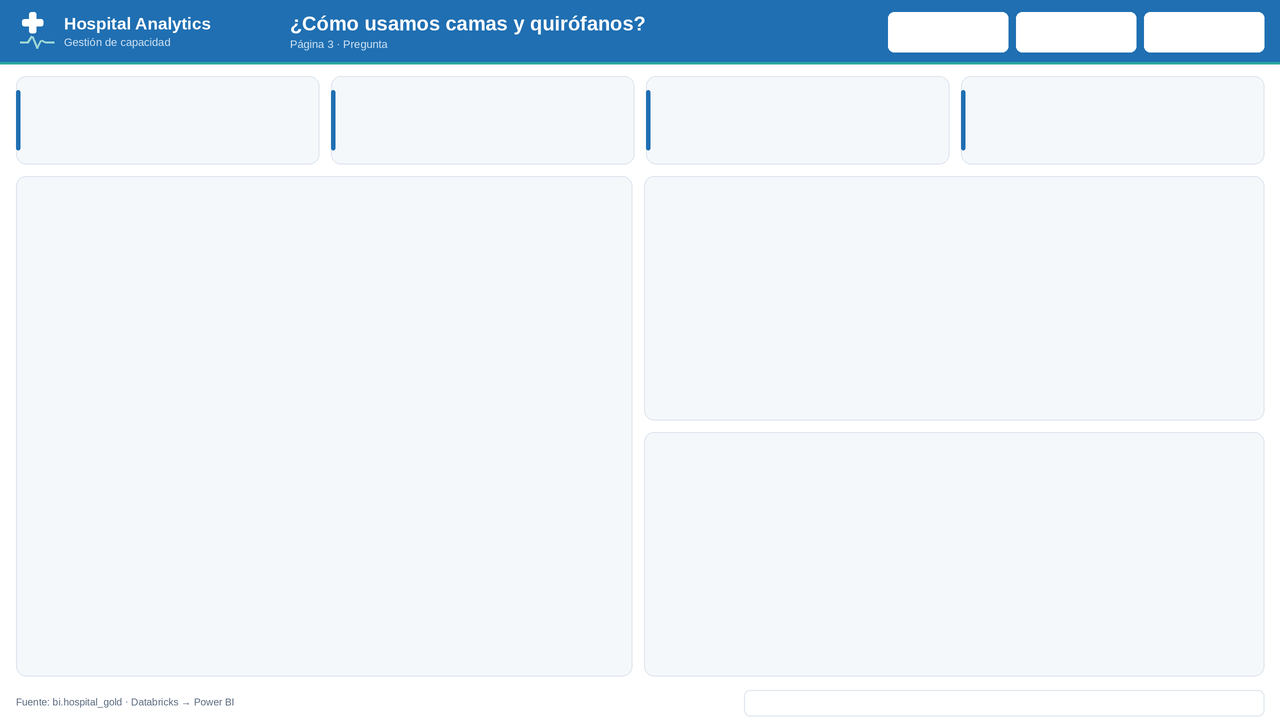

What the dashboard file says about the page in this screenshot:
{"tool":"powerbi","page":{"name":"3 Pregunta","canvas":[1920,1080],"ordinal":3},"visuals":[{"type":"slicer","fields":{"Values":["dim_date.year"]},"box":[1332,18,180,60],"z":0},{"type":"slicer","fields":{"Values":["dim_date.quarter_name"]},"box":[1524,18,180,60],"z":1000},{"type":"card","fields":{"Values":["_Medidas.Total Estancias"]},"box":[39,120,433.5,120],"z":1000},{"type":"slicer","fields":{"Values":["dim_departments.department_name"]},"box":[1716,18,180,60],"z":2000},{"type":"card","fields":{"Values":["_Medidas.Estancia Promedio (días)"]},"box":[511.5,120,433.5,120],"z":2000},{"type":"card","fields":{"Values":["_Medidas.Facturación Estancias"]},"box":[984,120,433.5,120],"z":3000},{"type":"pageNavigator","box":[1116,1035,780,39],"z":3000},{"type":"card","fields":{"Values":["_Medidas.Cirugías (tarjeta)"]},"box":[1456.5,120,433.5,120],"z":4000},{"type":"tableEx","title":"La UCI retiene más tiempo: 5,9 días promedio y casos de hasta 40 días","fields":{"Values":["dim_beds.ward_name","_Medidas.Estancias en Cama","_Medidas.Estancia Prom. Cama (días)","_Medidas.Estancia Máx. Cama (días)","_Medidas.Facturación Prom. Cama"]},"box":[24,264,924,750],"z":5000},{"type":"lineClusteredColumnComboChart","title":"Super Deluxe: la estancia más larga (5,2 días) y más costosa (78.239)","fields":{"Category":["dim_rooms.room_type"],"Y":["_Medidas.Facturación Prom. Habitación"],"Y2":["_Medidas.Estancia Prom. Habitación (días)"]},"box":[966,264,930,366],"z":6000},{"type":"clusteredBarChart","title":"Ninguna cirugía domina: las más frecuentes van de 29 a 39 casos","fields":{"Category":["fact_surgeries.surgery_type"],"Y":["_Medidas.Cirugías Top 10"]},"box":[966,648,930,366],"z":7000}]}

Visuals, with their boxes on the page's 1920x1080 design canvas (x1, y1, x2, y2). These are canvas units, not pixel positions in the 1280x720 screenshot, which may show the page scaled, cropped or inside an application window:
slicer - dim_date.year: <region>1332, 18, 1512, 78</region>
slicer - dim_date.quarter_name: <region>1524, 18, 1704, 78</region>
card - _Medidas.Total Estancias: <region>39, 120, 472, 240</region>
slicer - dim_departments.department_name: <region>1716, 18, 1896, 78</region>
card - _Medidas.Estancia Promedio (días): <region>512, 120, 945, 240</region>
card - _Medidas.Facturación Estancias: <region>984, 120, 1418, 240</region>
pageNavigator: <region>1116, 1035, 1896, 1074</region>
card - _Medidas.Cirugías (tarjeta): <region>1456, 120, 1890, 240</region>
"La UCI retiene más tiempo: 5,9 días promedio y casos de hasta 40 días" tableEx: <region>24, 264, 948, 1014</region>
"Super Deluxe: la estancia más larga (5,2 días) y más costosa (78.239)" lineClusteredColumnComboChart: <region>966, 264, 1896, 630</region>
"Ninguna cirugía domina: las más frecuentes van de 29 a 39 casos" clusteredBarChart: <region>966, 648, 1896, 1014</region>
